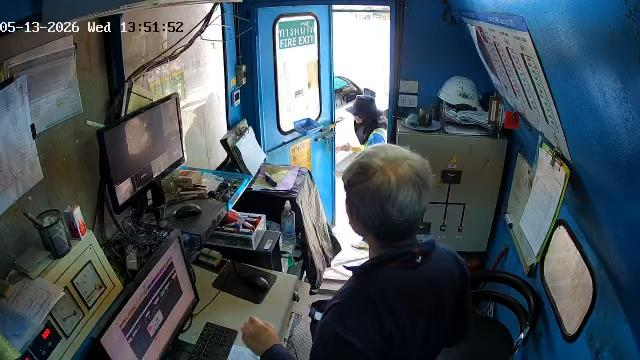Head: (343, 144, 432, 248)
People: (310, 145, 471, 359)
